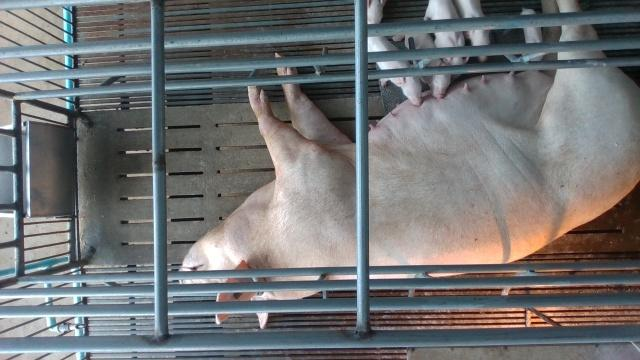piglet: (367, 36, 421, 106), (393, 34, 451, 98), (424, 0, 469, 79), (455, 0, 492, 63), (521, 8, 544, 61)
sow-sleep-lactate: (177, 0, 639, 329)
